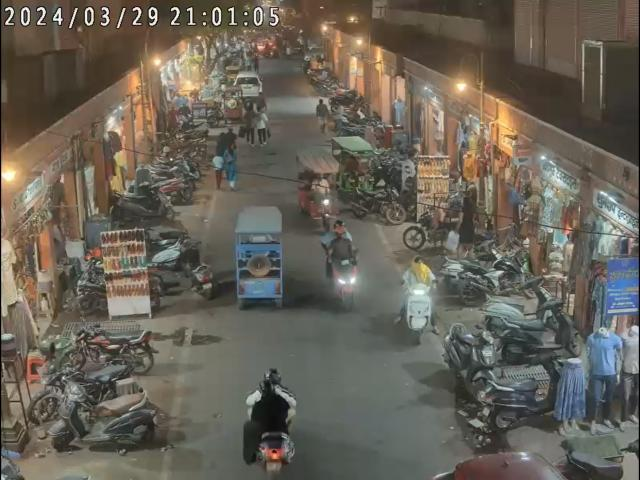auto: (232, 205, 288, 306), (296, 144, 339, 218)
helmet: (264, 365, 282, 383), (332, 224, 349, 240)
motorbike: (28, 357, 134, 409), (64, 324, 154, 369), (458, 258, 534, 301), (354, 184, 406, 225)
no_helmet: (414, 255, 424, 268)
scooty: (42, 384, 157, 448), (483, 351, 567, 428), (506, 301, 582, 360), (485, 280, 558, 333), (444, 316, 492, 382), (442, 239, 500, 281), (180, 240, 217, 302)
scooty-rider: (248, 360, 298, 470), (322, 219, 358, 312), (404, 253, 438, 339)
